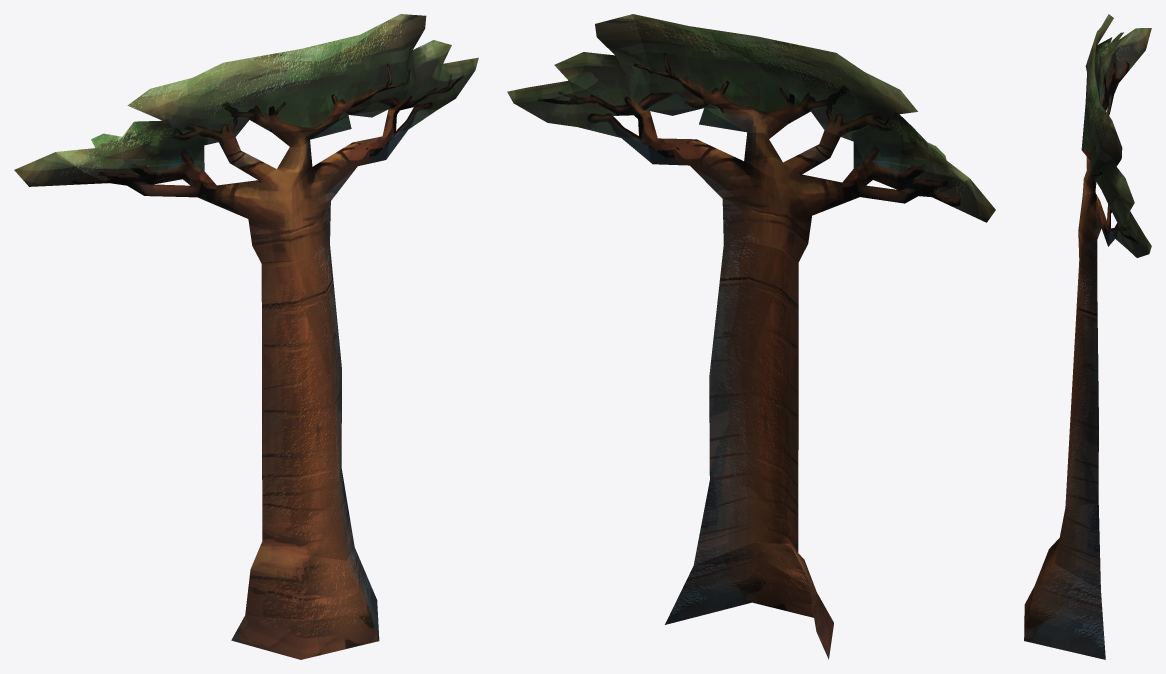
The model's file is Tree_03.fbx.
3 views of the same model, side by side, from view 1: azimuth 30°, elevation 25°; view 2: azimuth 150°, elevation 25°; view 3: azimuth 270°, elevation 25° (orthographic). The views are drawn at different scales.
Visible parts, largest first — view 1: Tree_03; view 2: Tree_03; view 3: Tree_03.
Part boxes in pixels (x1=…): Tree_03: x1=14, y1=14, x2=478, y2=659; Tree_03: x1=507, y1=14, x2=995, y2=659; Tree_03: x1=1024, y1=14, x2=1151, y2=659.
Bounding box in the file's own units: 216 × 257 × 53.68.
